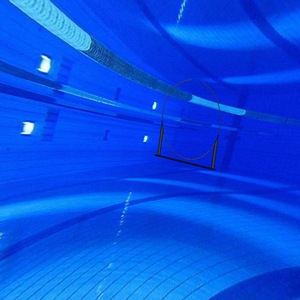circle: (155, 78, 222, 175)
